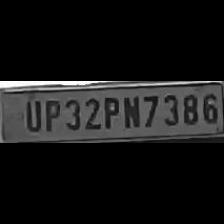2: (82, 94, 100, 130)
3: (160, 90, 178, 126), (61, 96, 80, 130)
6: (198, 90, 220, 124)
7: (140, 92, 158, 128)
8: (180, 90, 198, 126)
N: (120, 94, 140, 128)
P: (42, 96, 60, 132), (101, 94, 119, 128)
U: (22, 97, 42, 131)
